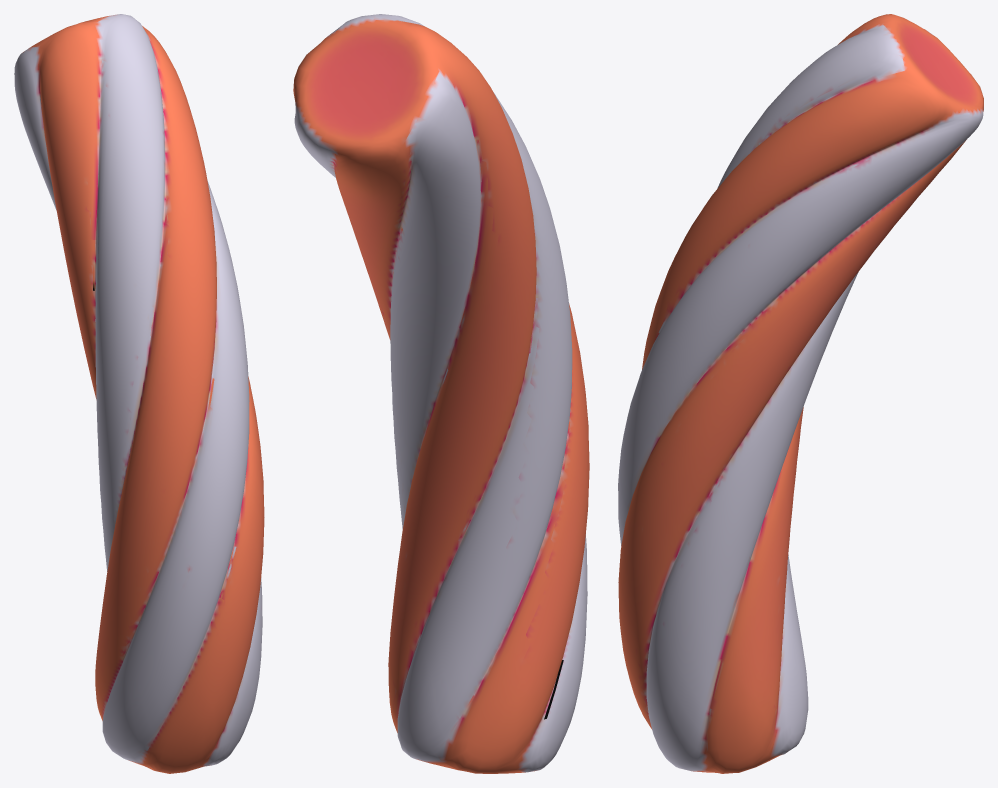
The model's file is twister_014.obj.
The picture shows the model from 3 angles, left to right: view 1: azimuth 30°, elevation 25°; view 2: azimuth 150°, elevation 25°; view 3: azimuth 270°, elevation 25°; orthographic projection. The views are drawn at different scales.
Visible parts, largest first — view 1: twister.014; view 2: twister.014; view 3: twister.014.
Part boxes in pixels (<box>): twister.014: <box>14,14,264,773</box>; twister.014: <box>293,14,589,773</box>; twister.014: <box>618,14,983,773</box>.
Size of the model in its own units: 0.488 by 2.22 by 1.01.
Materials: 1 (1 with a texture image).
